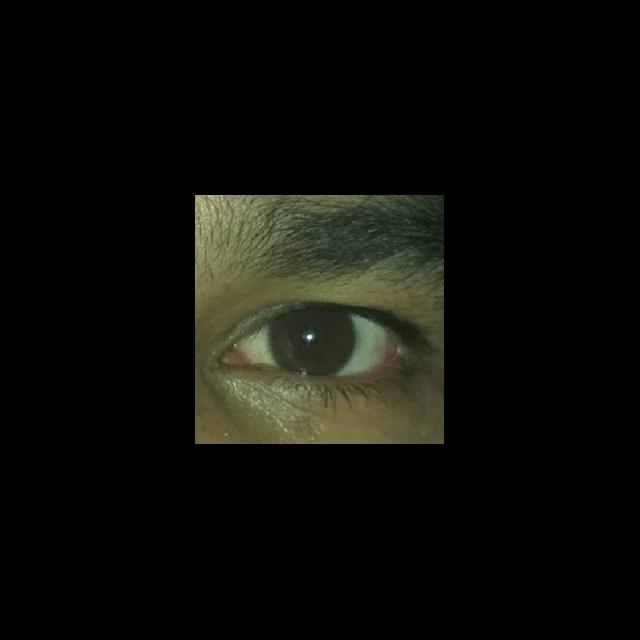eye: (233, 309, 397, 378)
iris: (269, 312, 356, 375)
